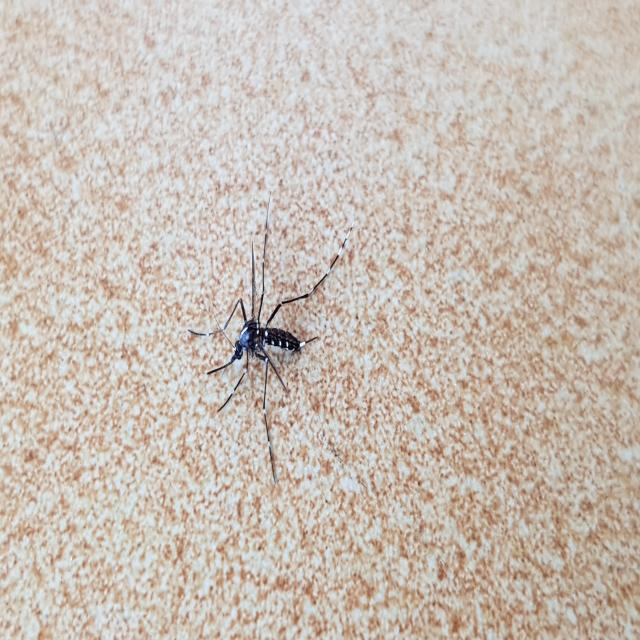albopictus: (188, 186, 354, 488)
